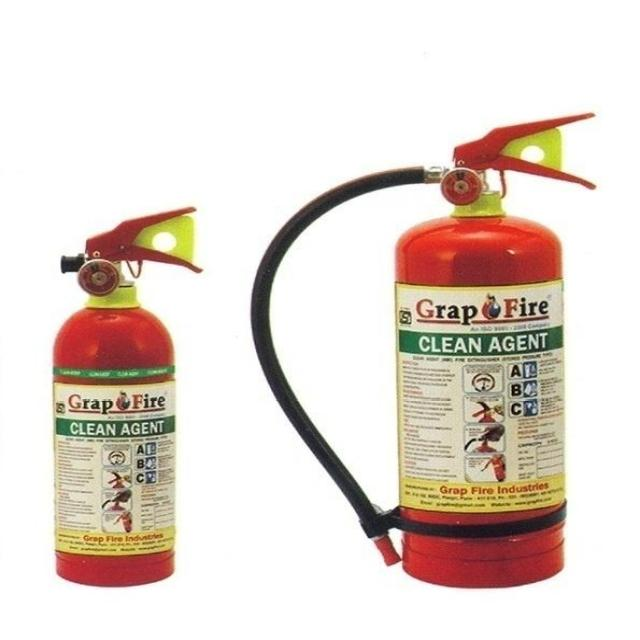fire_extinguisher: (242, 104, 605, 594), (42, 196, 215, 593)
